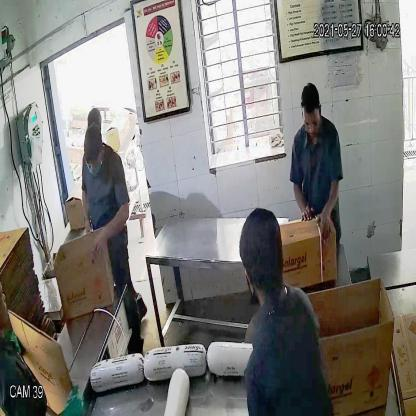no_goggles: (301, 113, 323, 134)
